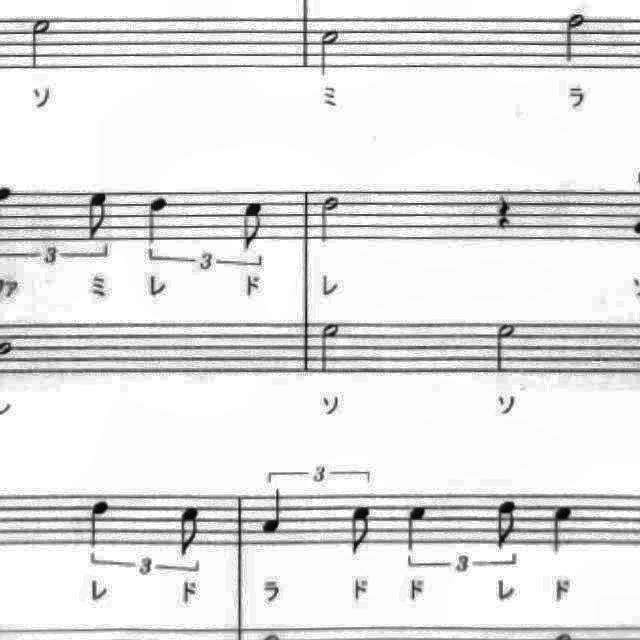Eighth-note: (488, 494, 524, 556), (343, 501, 379, 563), (172, 501, 208, 561), (236, 193, 270, 254), (80, 185, 114, 242)
Half-note: (556, 6, 594, 70), (488, 317, 524, 379), (23, 12, 58, 74), (312, 22, 348, 82), (313, 317, 345, 379), (313, 190, 345, 248)
Quarter-note: (544, 499, 580, 561), (82, 494, 118, 554), (138, 189, 174, 247), (400, 498, 436, 556), (258, 484, 294, 540)
Quarter-rest: (489, 187, 519, 235)
